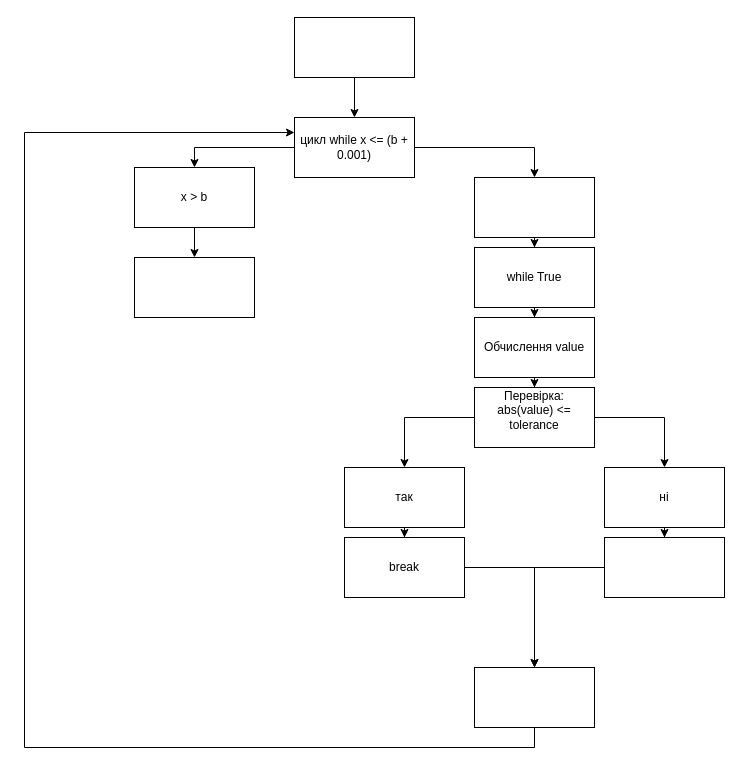
Some shapes in this 742 by 773 pixel diagram are drawn without their labels. The shapes that lost their labels are listed below. From the top down, each one's box as (x1, y1, x2, y2) in pixels, then its label:
(294, 16, 414, 78): оголошення змінних
(474, 176, 594, 238): x <= b
(134, 256, 254, 318): end
(604, 536, 724, 598): series_sum += value k += 1
(474, 666, 594, 728): print(результат)
